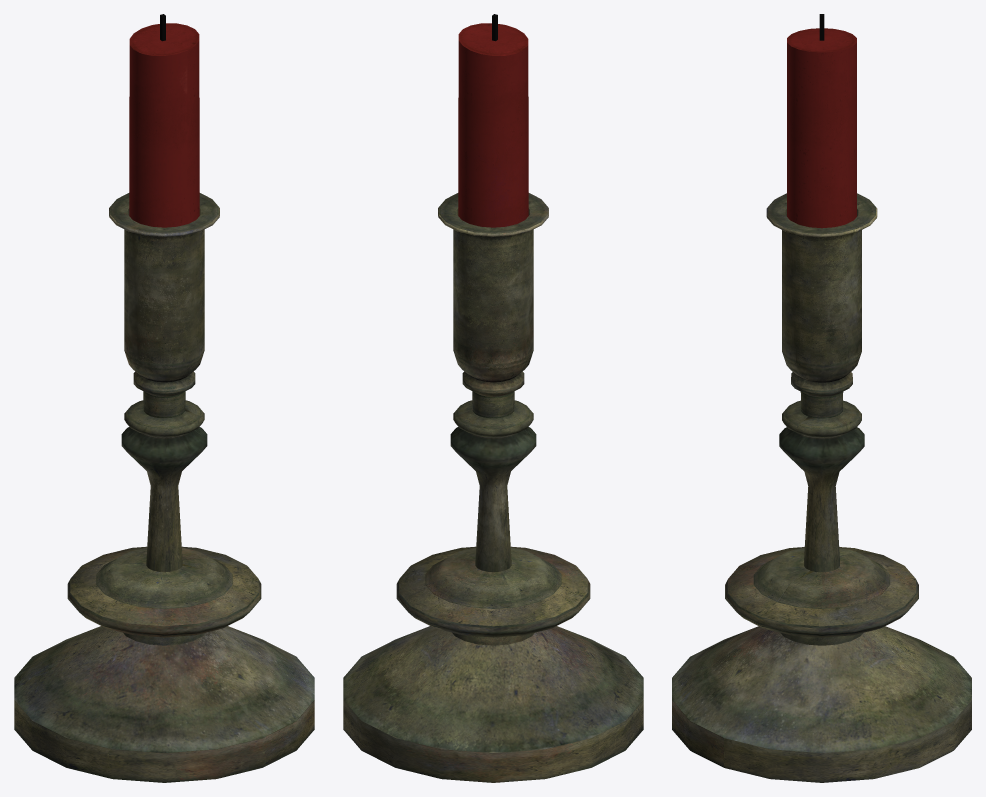
File: vela_vermlha.glb
The picture shows the model from 3 angles, left to right: view 1: azimuth 30°, elevation 25°; view 2: azimuth 150°, elevation 25°; view 3: azimuth 270°, elevation 25°; orthographic projection.
Parts seen in each view (by area): view 1: Candle_LP; view 2: Candle_LP; view 3: Candle_LP.
Part boxes in pixels (box(x1,y1,x2,y2)): Candle_LP: box(14, 14, 314, 782); Candle_LP: box(343, 14, 643, 782); Candle_LP: box(672, 14, 971, 782).
Size of the model in its own units: 11.78 by 30.01 by 11.6.
1 material, 1 textured.
